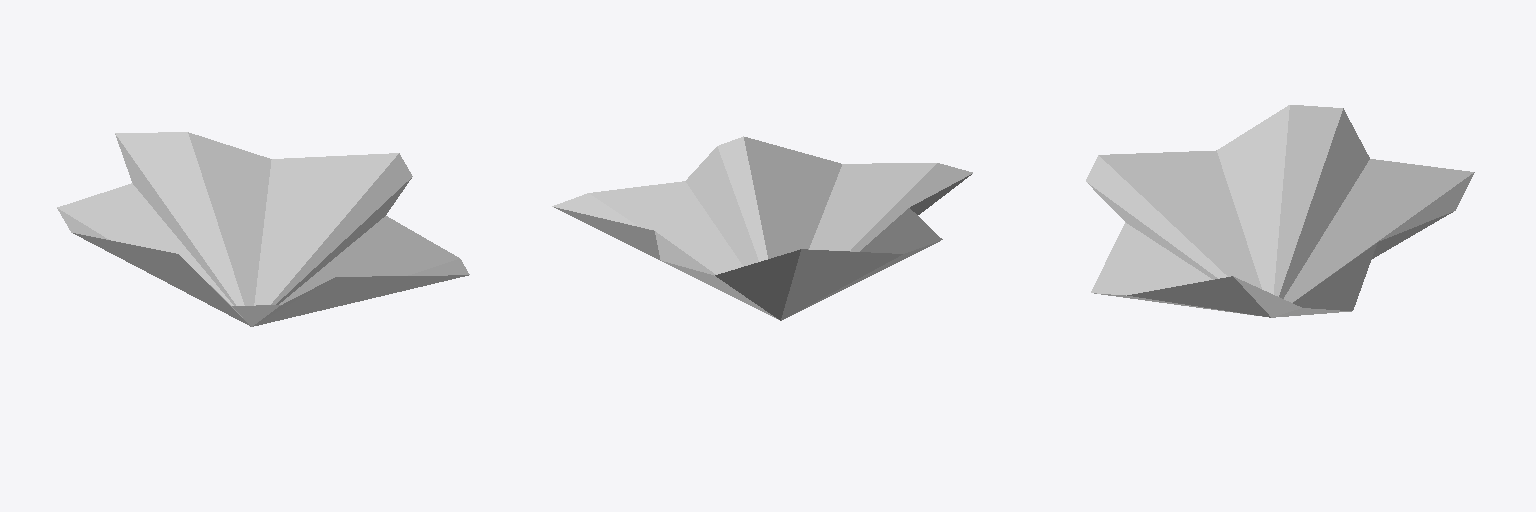
File: Petal_2.obj
3 renders of one model, left to right at view 1: azimuth 30°, elevation 25°; view 2: azimuth 150°, elevation 25°; view 3: azimuth 270°, elevation 25°, orthographic.
Parts seen in each view (by area): view 1: Petal_2; view 2: Petal_2; view 3: Petal_2.
Part boxes in pixels (left/top/right/bottom): Petal_2: left=57, top=132, right=469, bottom=326; Petal_2: left=552, top=136, right=972, bottom=320; Petal_2: left=1086, top=105, right=1474, bottom=317.
Bounding box in the file's own units: 0.6732 × 0.2361 × 0.6311.